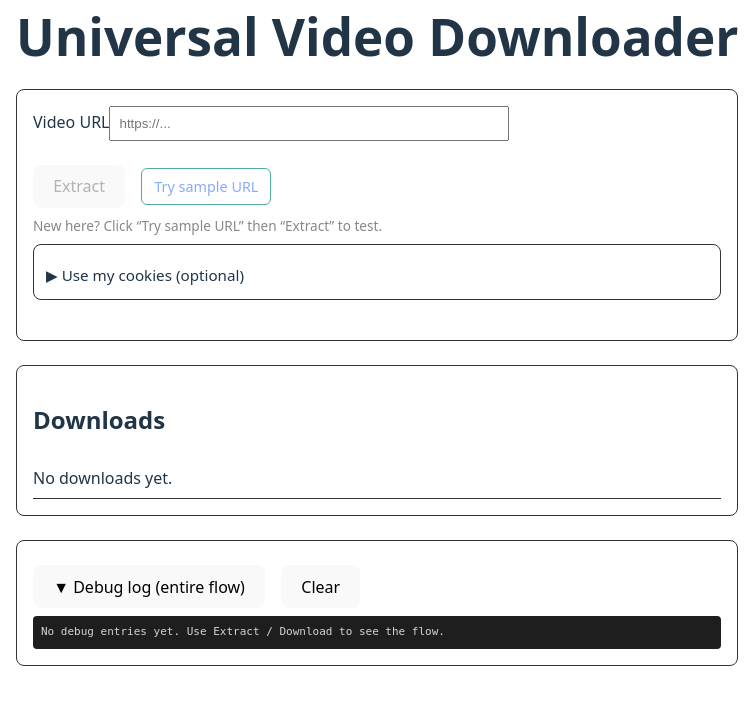
Test: App › FE-C1: has URL input and Extract button; Extract shows loading then title and format list
Expected: the button "Extract" is disabled, top-left (33, 165), bottom-right (125, 208)
Type "https://youtube.com/watch?v=1" into the field with placeholder "https://...". click: {"x": 310, "y": 123}
box: top-left (110, 106), bottom-right (510, 141)
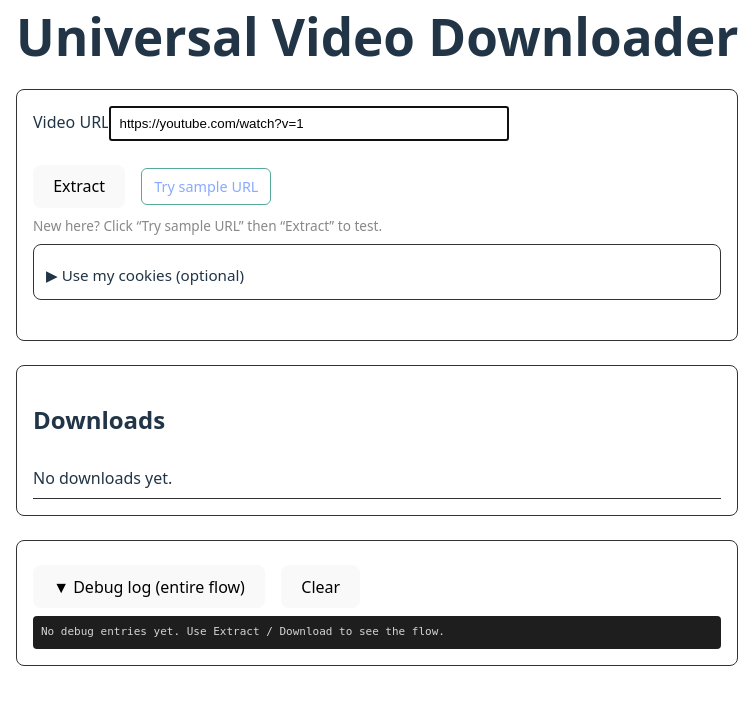
Expected: the button "Extract" is enabled
Click the button "Extract". click: {"x": 79, "y": 186}
box: top-left (33, 165), bottom-right (125, 208)
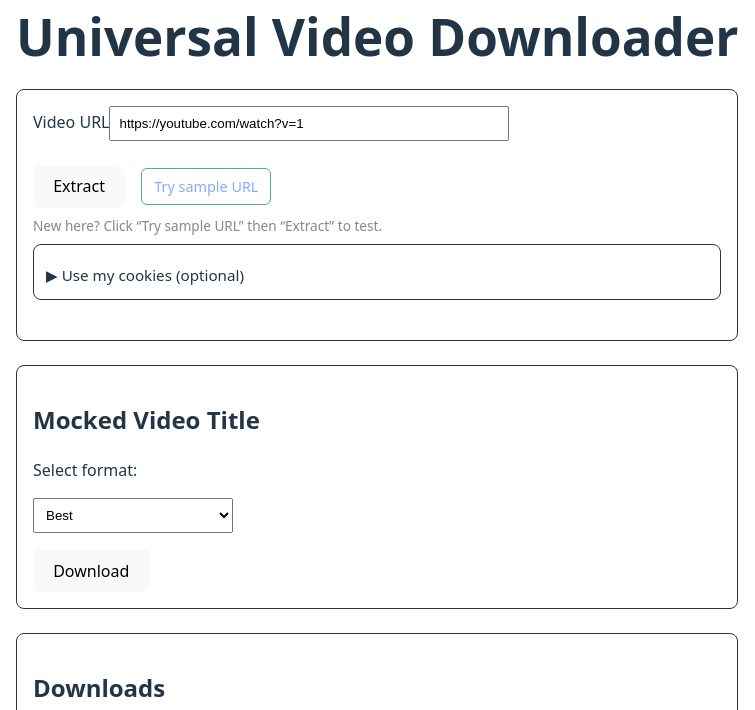
Expected: the heading "Mocked Video Title" is shown, top-left (33, 403), bottom-right (260, 436)
Expected: the text "Select format:" is shown, top-left (33, 459), bottom-right (137, 481)
